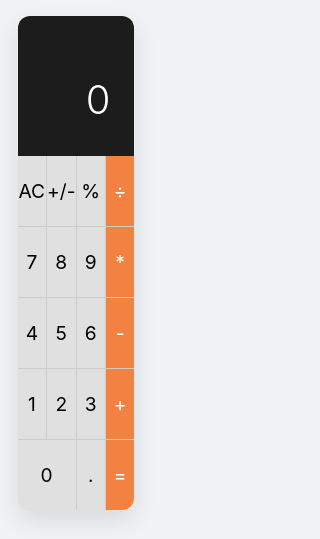
Test case: Testing Calculator component › sum works correctly
Click the button "1". click: (32, 404)
box: [18,369,46,439]
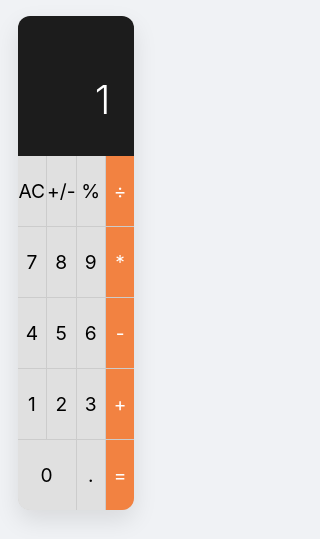
Click the button "+". click: (120, 404)
box: [106,369,134,439]
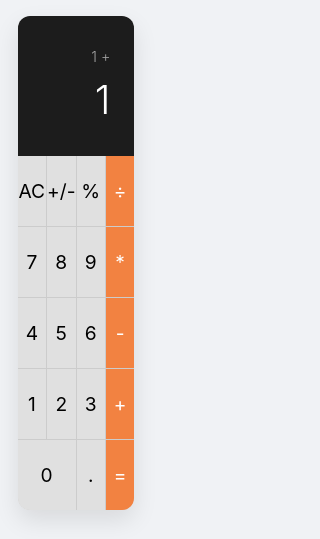
Click the button "2". click: (61, 404)
box: [47,369,76,439]
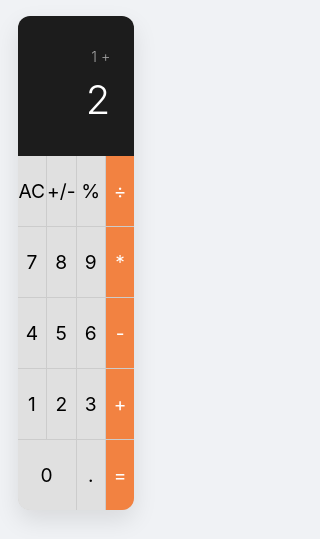
Click the button "=". click: (120, 475)
box: [106,440,134,510]
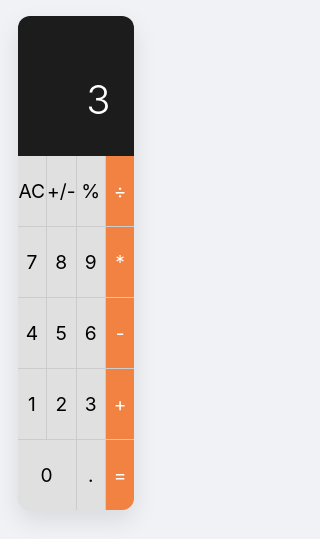
Result: the text with class "main-display" reads "3" at [86,75,110,124]
